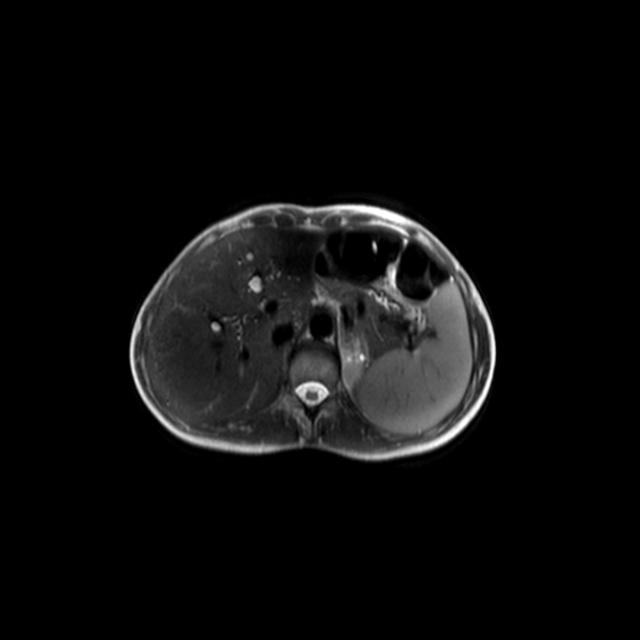sol: (341, 342, 365, 383)
